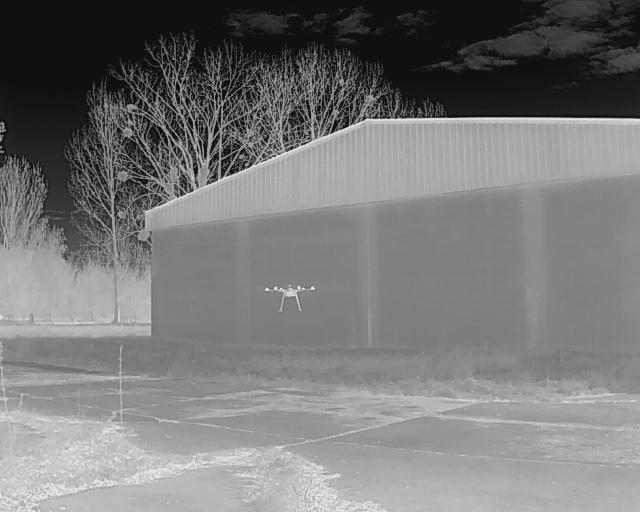drone: (261, 277, 320, 316)
